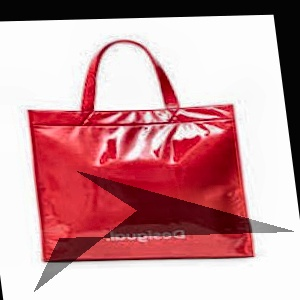desigual: (134, 97, 259, 300)
